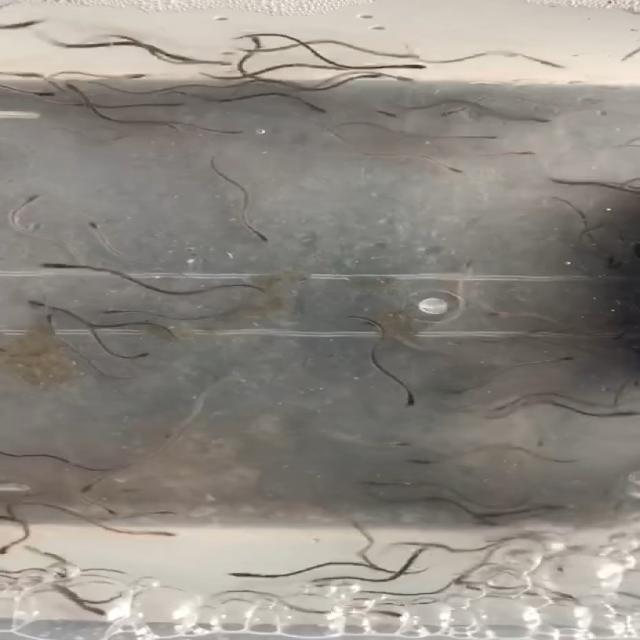active_glass_eel: (70, 600, 118, 618), (407, 450, 451, 469), (299, 571, 342, 589), (6, 15, 51, 32), (296, 100, 336, 118), (18, 85, 62, 101), (351, 68, 397, 83), (437, 103, 480, 119), (370, 50, 424, 62), (37, 258, 77, 274), (367, 606, 408, 621), (488, 399, 521, 417), (73, 478, 110, 494), (423, 160, 465, 174), (158, 422, 192, 439), (526, 56, 574, 68), (400, 391, 430, 410), (226, 566, 266, 580), (233, 28, 268, 43), (187, 56, 239, 66), (381, 59, 428, 70), (383, 438, 429, 449), (211, 124, 247, 137), (6, 69, 48, 80), (356, 478, 391, 491), (79, 222, 111, 236), (39, 308, 60, 329), (502, 146, 538, 158), (129, 531, 177, 540), (363, 111, 402, 122), (450, 259, 478, 274), (246, 229, 277, 242), (534, 434, 559, 450), (113, 70, 149, 81), (20, 189, 42, 207), (24, 298, 52, 312), (150, 509, 188, 519), (510, 117, 552, 126), (394, 74, 424, 86), (475, 309, 505, 321), (473, 129, 504, 140), (0, 541, 22, 556), (103, 305, 135, 315), (128, 352, 158, 362), (100, 504, 121, 518), (554, 351, 577, 362)
